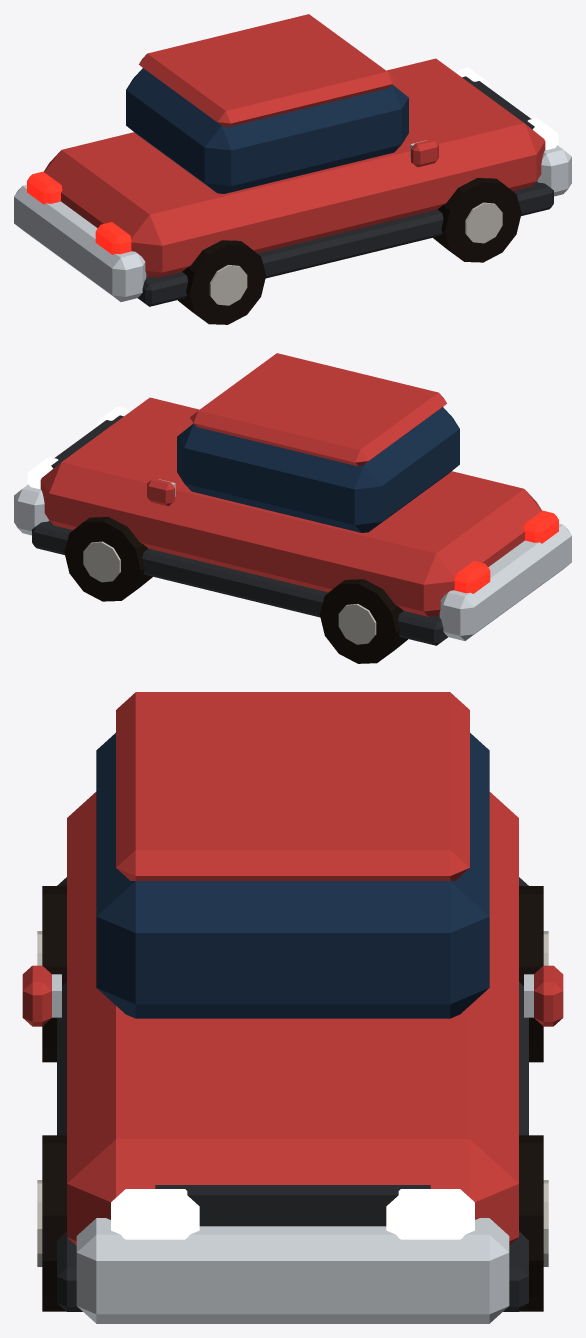
The model's file is car.glb.
The picture shows the model from 3 angles, top to bottom: view 1: azimuth 30°, elevation 25°; view 2: azimuth 150°, elevation 25°; view 3: azimuth 270°, elevation 25°; orthographic projection. The views are drawn at different scales.
Parts seen in each view (by area): view 1: CarBody, CarCabin, CarRoof, CarSkirt, BumperR, Wheel1, Wheel3, BumperF, Hub3, Hub1, TailLight.001, TailLight (+3 smaller); view 2: CarBody, CarCabin, CarRoof, CarSkirt, BumperR, Wheel0, Wheel2, BumperF, Hub2, Hub0, TailLight, TailLight.001 (+3 smaller); view 3: CarBody, CarRoof, CarCabin, BumperF, Grill, CarSkirt, HeadLight, HeadLight.001, Wheel0, Wheel1, Wheel2, Wheel3 (+2 smaller).
Boxes of the visible parts, x1,y1,x2,y2 form: CarBody: [44, 58, 545, 277]; CarCabin: [126, 68, 408, 193]; CarRoof: [139, 14, 395, 127]; CarSkirt: [138, 181, 553, 306]; BumperR: [14, 184, 146, 301]; Wheel1: [433, 178, 521, 262]; Wheel3: [177, 240, 266, 324]; BumperF: [537, 145, 571, 196]; Hub3: [209, 265, 247, 305]; Hub1: [465, 202, 502, 243]; TailLight.001: [95, 222, 131, 254]; TailLight: [27, 171, 62, 204]; CarBody: [40, 397, 541, 616]; CarCabin: [177, 407, 459, 532]; CarRoof: [190, 353, 446, 466]; CarSkirt: [32, 520, 447, 645]; BumperR: [439, 523, 571, 640]; Wheel0: [64, 517, 152, 601]; Wheel2: [319, 579, 408, 663]; BumperF: [14, 484, 48, 535]; Hub2: [338, 604, 376, 644]; Hub0: [83, 541, 120, 582]; TailLight: [454, 561, 490, 593]; TailLight.001: [523, 510, 558, 543]; CarBody: [67, 792, 518, 1245]; CarRoof: [116, 692, 469, 880]; CarCabin: [96, 733, 489, 1018]; BumperF: [76, 1218, 509, 1323]; Grill: [155, 1185, 430, 1226]; CarSkirt: [57, 877, 528, 1311]; HeadLight: [386, 1189, 474, 1239]; HeadLight.001: [111, 1189, 199, 1239]; Wheel0: [519, 1135, 543, 1311]; Wheel1: [42, 1135, 66, 1311]; Wheel2: [519, 886, 543, 1062]; Wheel3: [42, 886, 66, 1062].
Bounding box in the file's own units: 1.08 × 0.43 × 0.55.
